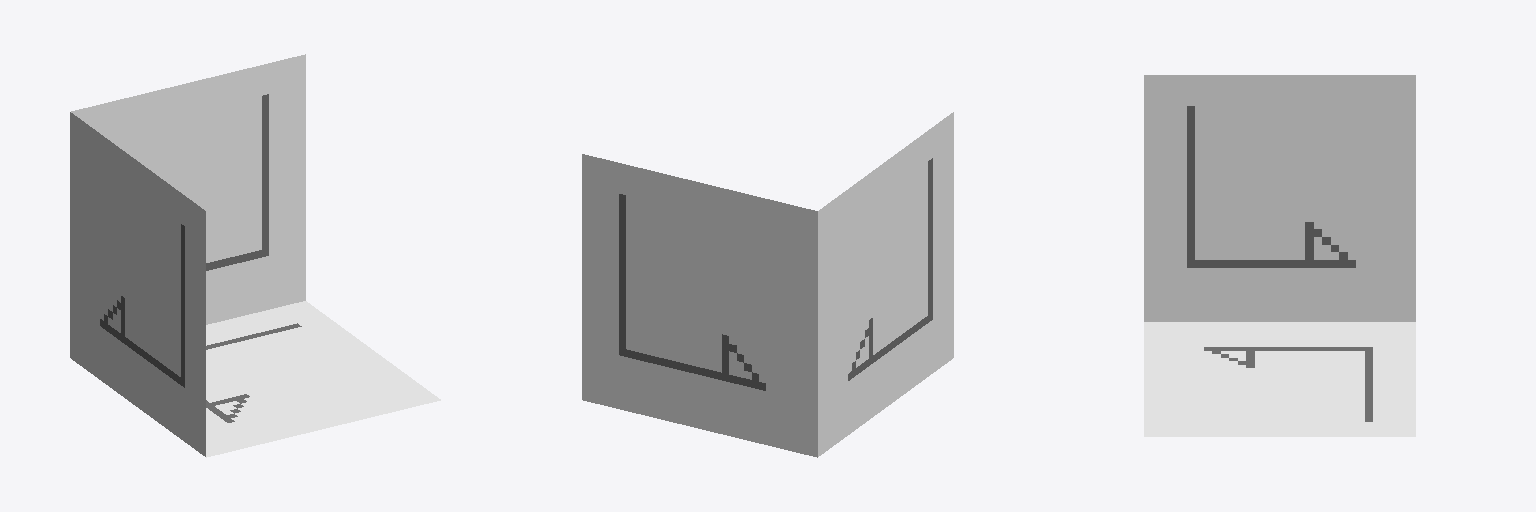
3 renders of one model, left to right at view 1: azimuth 30°, elevation 25°; view 2: azimuth 150°, elevation 25°; view 3: azimuth 270°, elevation 25°, orthographic.
Parts seen in each view (by area): view 1: Cube_Cube.004; view 2: Cube_Cube.004; view 3: Cube_Cube.004.
Boxes of the visible parts, x1=… form: Cube_Cube.004: x1=70, y1=54, x2=440, y2=457; Cube_Cube.004: x1=582, y1=112, x2=953, y2=457; Cube_Cube.004: x1=1144, y1=75, x2=1415, y2=436.
Bounding box in the file's own units: 2 × 2 × 2.
Materials: 1 (1 with a texture image).